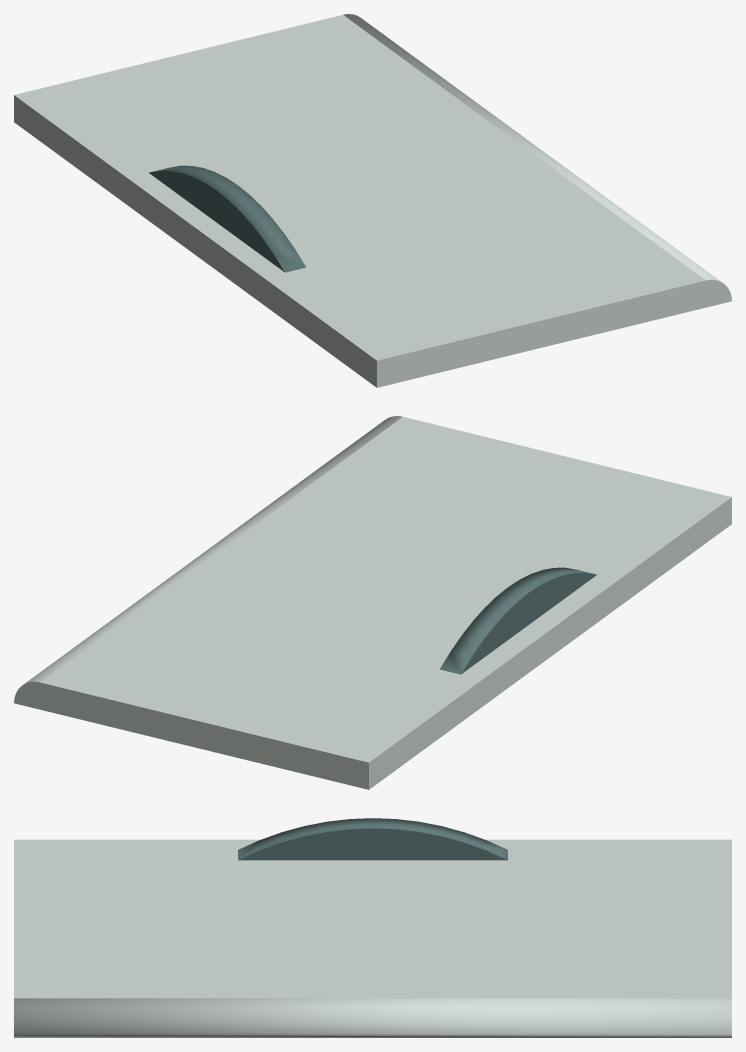
The model's file is fridge_door_visual.obj.
3 renders of one model, top to bottom at view 1: azimuth 30°, elevation 25°; view 2: azimuth 150°, elevation 25°; view 3: azimuth 270°, elevation 25°, orthographic.
Parts seen in each view (by area): view 1: fridgeDoor1.001_ID25.001; view 2: fridgeDoor1.001_ID25.001; view 3: fridgeDoor1.001_ID25.001.
Part boxes in pixels (x1,y1,x2,y2): fridgeDoor1.001_ID25.001: [14, 14, 731, 387]; fridgeDoor1.001_ID25.001: [14, 416, 731, 789]; fridgeDoor1.001_ID25.001: [14, 818, 731, 1037].
Size of the model in its own units: 0.8195 by 0.1308 by 1.45.
